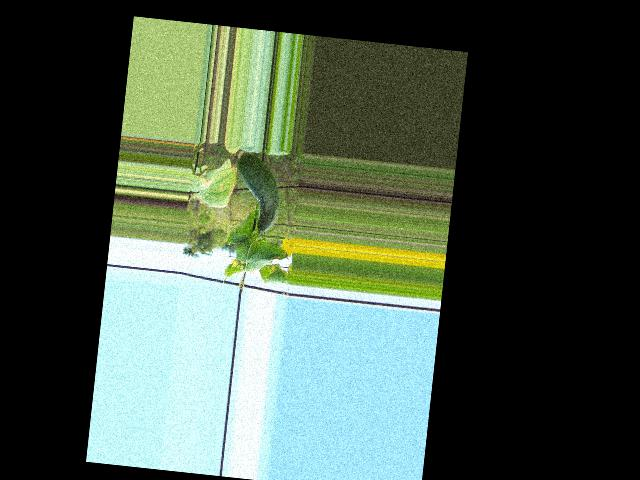cucumber: (229, 152, 284, 234)
